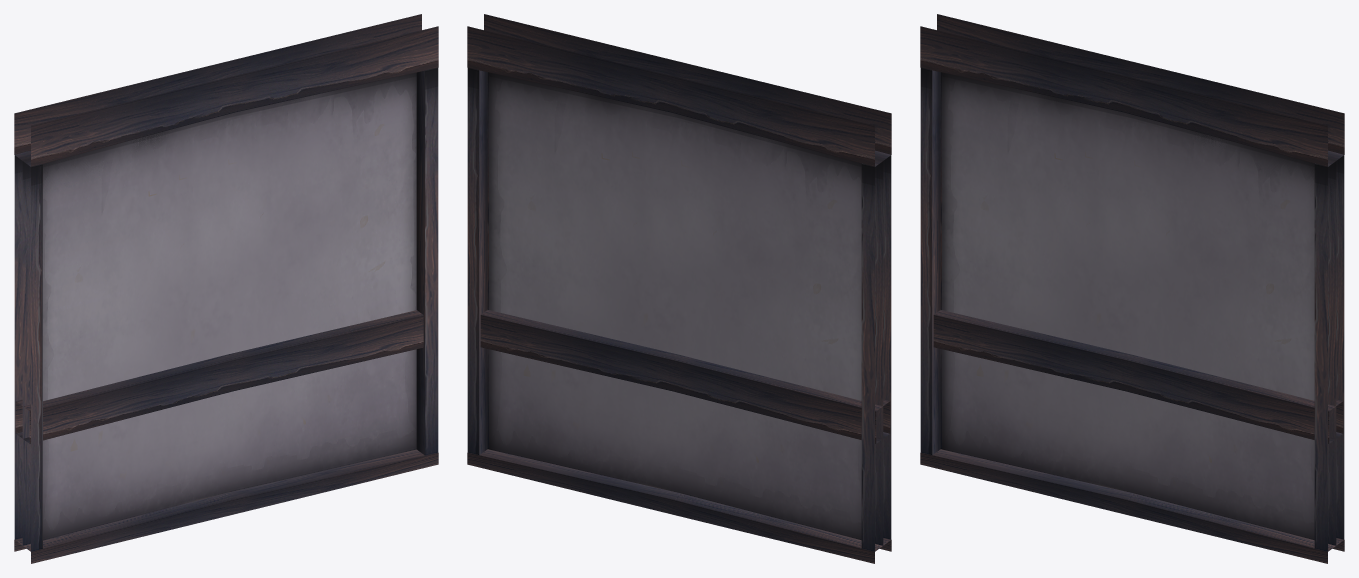
The model's file is Wall_2sided_detailed_2ndFloor.fbx.
3 views of the same model, side by side, from view 1: azimuth 30°, elevation 25°; view 2: azimuth 150°, elevation 25°; view 3: azimuth 330°, elevation 25° (orthographic).
Visible parts, largest first — view 1: Wall_2sided_detailed_2ndFloor; view 2: Wall_2sided_detailed_2ndFloor; view 3: Wall_2sided_detailed_2ndFloor.
Part boxes in pixels (<box>): Wall_2sided_detailed_2ndFloor: <box>14,14,438,563</box>; Wall_2sided_detailed_2ndFloor: <box>467,14,891,563</box>; Wall_2sided_detailed_2ndFloor: <box>920,14,1344,563</box>.
Size of the model in its own units: 0.6266 by 0.6442 by 0.0445.
